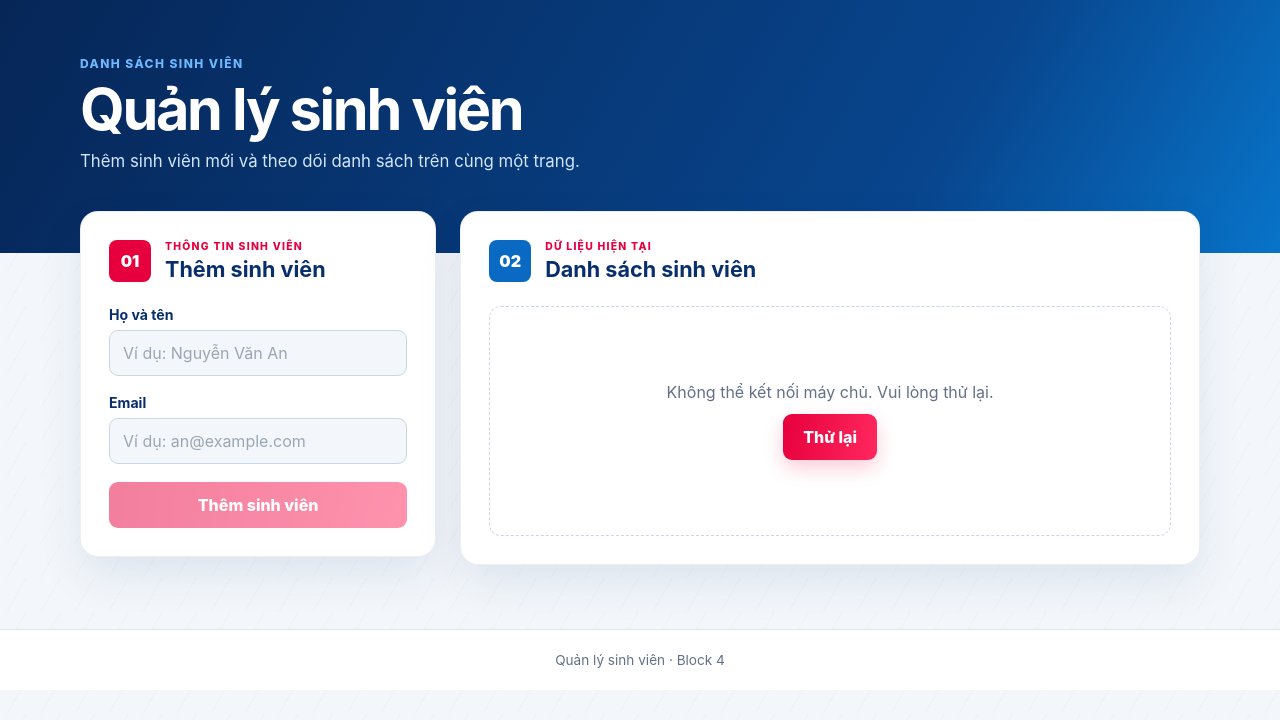
Test case: failed initial load disables form and retry can show empty state
Expected: the message "Không thể kết nối máy chủ. Vui lòng thử lại." is shown, [667,382,994,402]
Expected: the button "Thêm sinh viên" is disabled, [109,482,407,528]
Click the button "Thử lại": [830, 438] box [783,414,877,460]
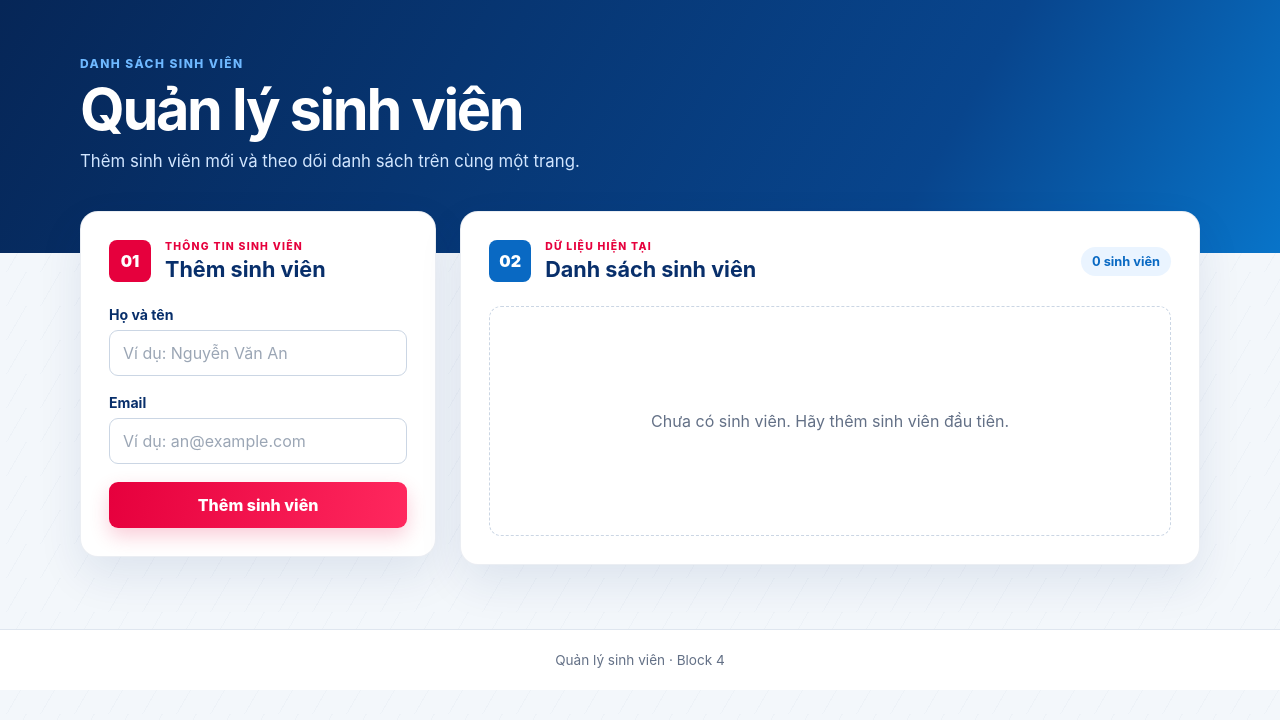
Expected: the text "Chưa có sinh viên. Hãy thêm sinh viên đầu tiên." is shown, [651,412,1009,432]
Expected: the button "Thêm sinh viên" is enabled, [109,482,407,528]
